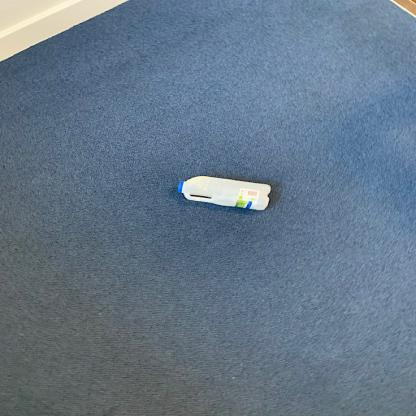trash: (173, 174, 280, 215)
